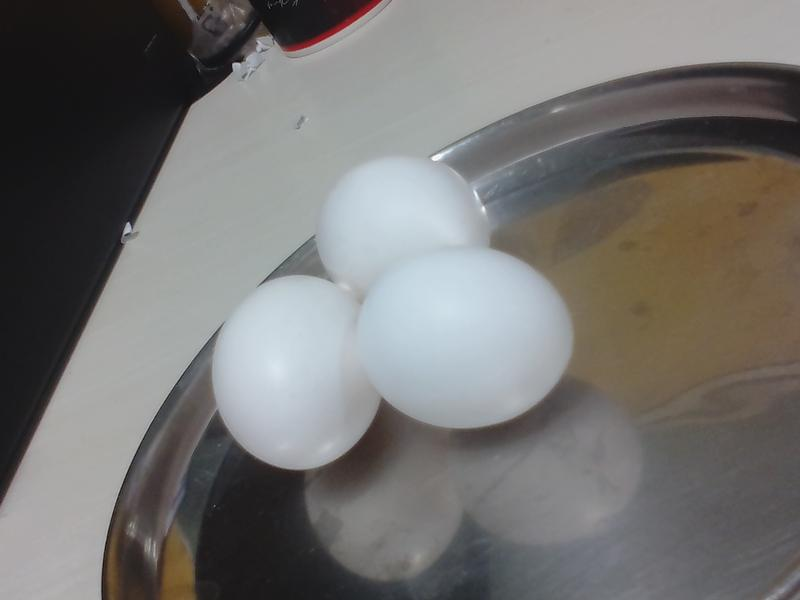egg: (213, 275, 375, 467)
